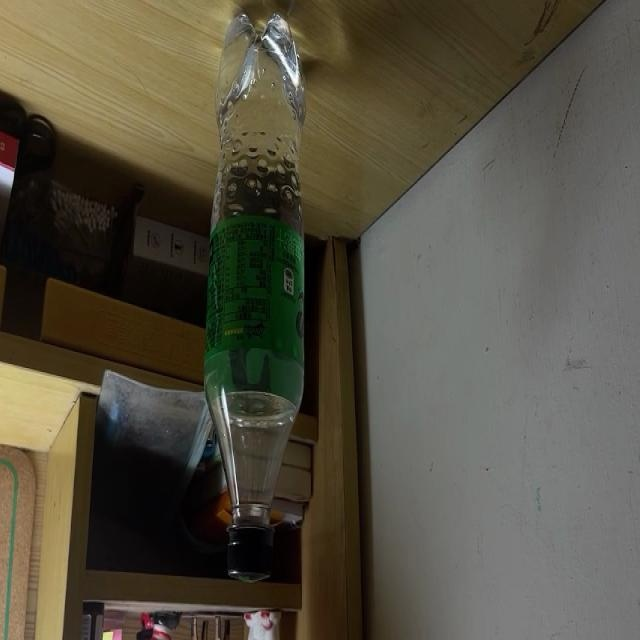Sprite: (204, 6, 302, 582)
